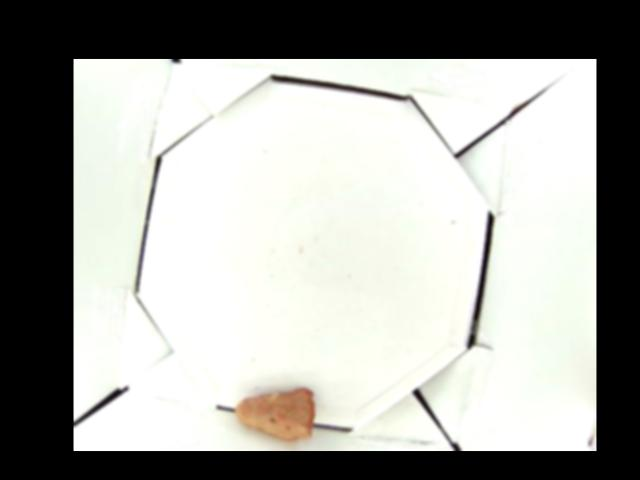Brisk: (236, 388, 315, 438)
